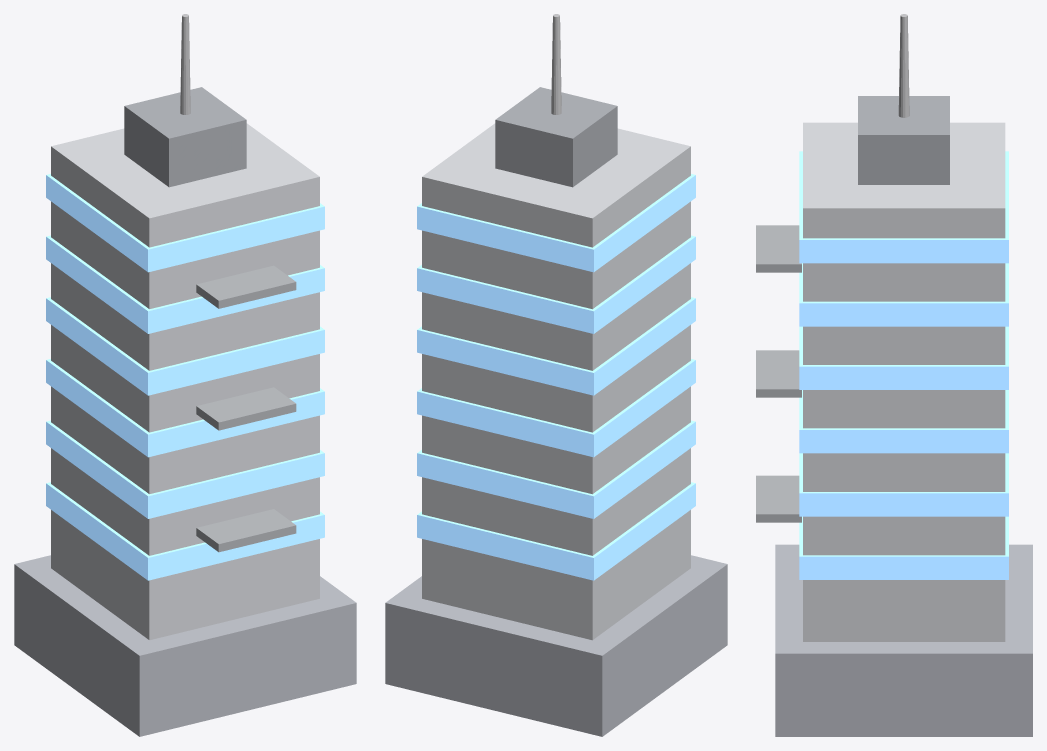
The model's file is apartment.glb.
3 views of the same model, side by side, from view 1: azimuth 30°, elevation 25°; view 2: azimuth 150°, elevation 25°; view 3: azimuth 270°, elevation 25° (orthographic). The views are drawn at different scales.
Parts seen in each view (by area): view 1: box.002, box.001, box.009, box.006, box.008, box.004, box.003, box.005, box.007, box.010, box.011, box (+1 smaller); view 2: box.002, box.001, box.009, box.003, box.006, box.005, box.007, box.008, box.004, cyl; view 3: box.002, box.001, box.009, box.008, box.005, box.007, box.004, box.006, box.003, box, box.011, box.010 (+1 smaller).
Part boxes in pixels (<box>): box.002: <box>51,123,319,640</box>; box.001: <box>14,555,356,736</box>; box.009: <box>124,87,246,187</box>; box.006: <box>46,297,324,395</box>; box.008: <box>46,174,324,272</box>; box.004: <box>46,420,324,518</box>; box.003: <box>46,482,324,580</box>; box.005: <box>46,359,324,457</box>; box.007: <box>46,235,324,333</box>; box.010: <box>196,509,296,552</box>; box.011: <box>196,387,296,430</box>; box: <box>196,265,296,308</box>; box.002: <box>422,123,690,640</box>; box.001: <box>385,555,727,736</box>; box.009: <box>495,87,617,187</box>; box.003: <box>417,482,695,580</box>; box.006: <box>417,297,695,395</box>; box.005: <box>417,359,695,457</box>; box.007: <box>417,235,695,333</box>; box.008: <box>417,174,695,272</box>; box.004: <box>417,420,695,518</box>; cyl: <box>551,14,561,114</box>; box.002: <box>803,122,1005,641</box>; box.001: <box>775,544,1032,736</box>; box.009: <box>858,96,949,184</box>; box.008: <box>799,151,1008,263</box>; box.005: <box>799,390,1008,453</box>; box.007: <box>799,263,1008,326</box>; box.004: <box>799,453,1008,516</box>; box.006: <box>799,326,1008,389</box>; box.003: <box>799,516,1008,579</box>; box: <box>756,225,801,272</box>; box.011: <box>756,350,801,397</box>; box.010: <box>756,475,801,522</box>.
Size of the model in its own units: 1.4 by 4 by 1.5.
